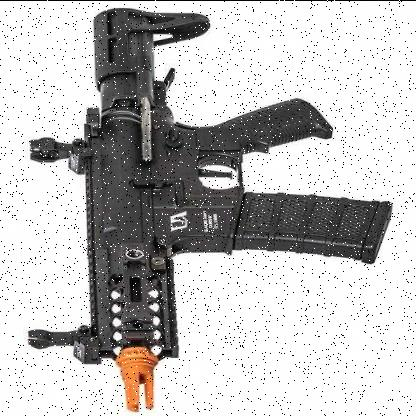rifle: (12, 4, 385, 410)
